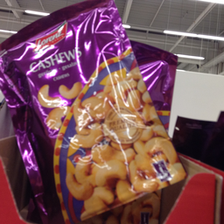nuts: (1, 1, 188, 223)
